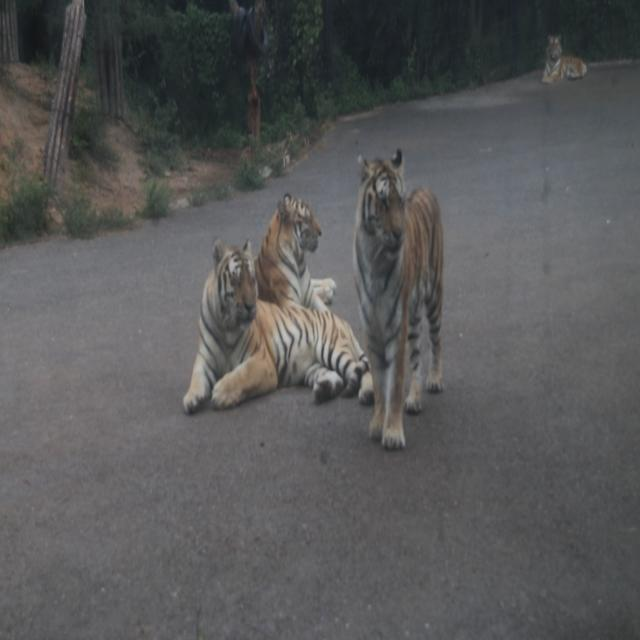Tiger: (343, 118, 463, 472), (183, 231, 380, 407), (244, 174, 340, 314), (536, 28, 598, 89)
